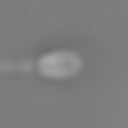normal: (1, 56, 36, 79)
